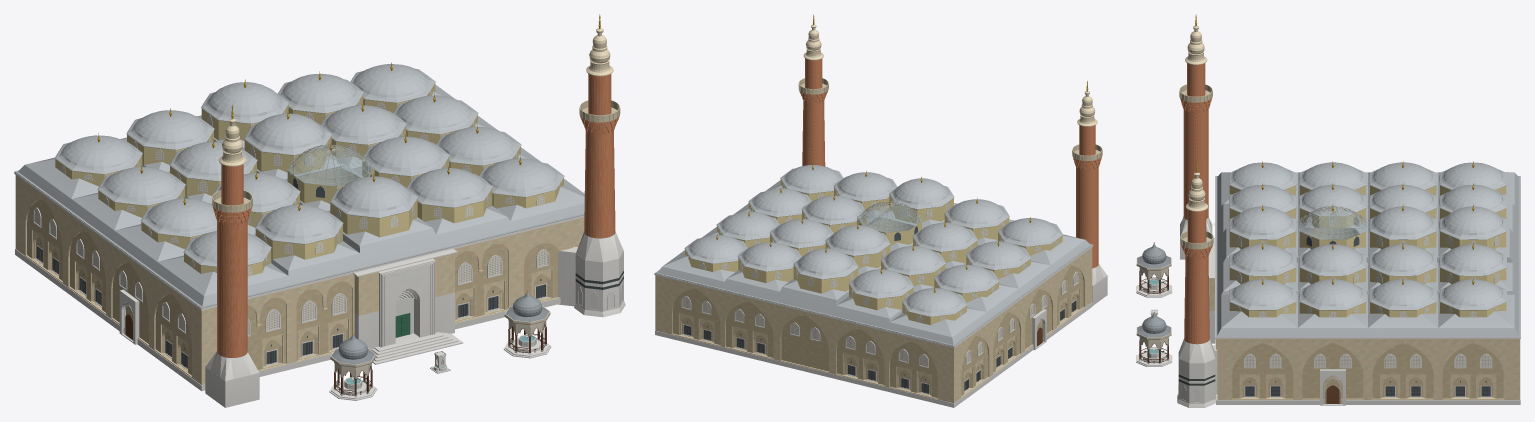
Rendered from ulu-cami.glb.
The picture shows the model from 3 angles, left to right: view 1: azimuth 30°, elevation 25°; view 2: azimuth 150°, elevation 25°; view 3: azimuth 270°, elevation 25°; orthographic projection. The views are drawn at different scales.
Parts seen in each view (by area): view 1: Kubbeler_19, Cati, Cephe_Kuzey, Cephe_Dogu, Minare_1, Minare_2, Pencere_Girintileri, Tac_Kapi, Giris_Cikintili_Blok, Sadirvan_Kubbe, Kasnak_Pencereleri, Avlu_Sadirvan_Bati (+6 smaller); view 2: Kubbeler_19, Cephe_Guney, Cati, Cephe_Dogu, Pencere_Girintileri, Minare_2, Minare_1, Mermer_Bant, Sadirvan_Kubbe, Kasnak_Pencereleri, Silme_Ust, Sadirvan_Iskeleti (+1 smaller); view 3: Kubbeler_19, Cephe_Bati, Cati, Minare_1, Minare_2, Pencere_Girintileri, Sadirvan_Kubbe, Kasnak_Pencereleri, Avlu_Sadirvan_Dogu, Avlu_Sadirvan_Bati, Mermer_Bant, Kapi_Bati (+3 smaller).
Boxes of the visible parts, left/top/right/bottom form: Kubbeler_19: left=54, top=64, right=564, bottom=276; Cati: left=14, top=84, right=584, bottom=308; Cephe_Kuzey: left=201, top=217, right=584, bottom=384; Cephe_Dogu: left=16, top=175, right=200, bottom=384; Minare_1: left=558, top=14, right=625, bottom=317; Minare_2: left=205, top=104, right=259, bottom=407; Pencere_Girintileri: left=31, top=229, right=553, bottom=372; Tac_Kapi: left=371, top=258, right=463, bottom=364; Giris_Cikintili_Blok: left=353, top=248, right=457, bottom=350; Sadirvan_Kubbe: left=287, top=145, right=374, bottom=203; Kasnak_Pencereleri: left=61, top=90, right=560, bottom=275; Avlu_Sadirvan_Bati: left=503, top=290, right=551, bottom=358; Kubbeler_19: left=684, top=165, right=1062, bottom=325; Cephe_Guney: left=655, top=275, right=954, bottom=403; Cati: left=654, top=180, right=1092, bottom=346; Cephe_Dogu: left=954, top=248, right=1091, bottom=402; Pencere_Girintileri: left=678, top=287, right=1080, bottom=396; Minare_2: left=1072, top=81, right=1107, bottom=305; Minare_1: left=798, top=14, right=828, bottom=166; Mermer_Bant: left=655, top=302, right=1092, bottom=407; Sadirvan_Kubbe: left=857, top=202, right=922, bottom=245; Kasnak_Pencereleri: left=687, top=184, right=1058, bottom=322; Silme_Ust: left=654, top=245, right=1093, bottom=347; Sadirvan_Iskeleti: left=857, top=201, right=922, bottom=231; Kubbeler_19: left=1229, top=162, right=1506, bottom=317; Cephe_Bati: left=1217, top=339, right=1518, bottom=403; Cati: left=1215, top=172, right=1520, bottom=337; Minare_1: left=1177, top=161, right=1217, bottom=407; Minare_2: left=1179, top=14, right=1212, bottom=259; Pencere_Girintileri: left=1239, top=374, right=1496, bottom=398; Sadirvan_Kubbe: left=1299, top=207, right=1366, bottom=249; Kasnak_Pencereleri: left=1236, top=185, right=1499, bottom=316; Avlu_Sadirvan_Dogu: left=1136, top=242, right=1172, bottom=297; Avlu_Sadirvan_Bati: left=1136, top=312, right=1172, bottom=366; Mermer_Bant: left=1215, top=339, right=1520, bottom=404; Kapi_Bati: left=1320, top=369, right=1345, bottom=405.
Size of the model in its own units: 70.59 by 48.1 by 70.23.
Materials: 32 (5 with a texture image).
